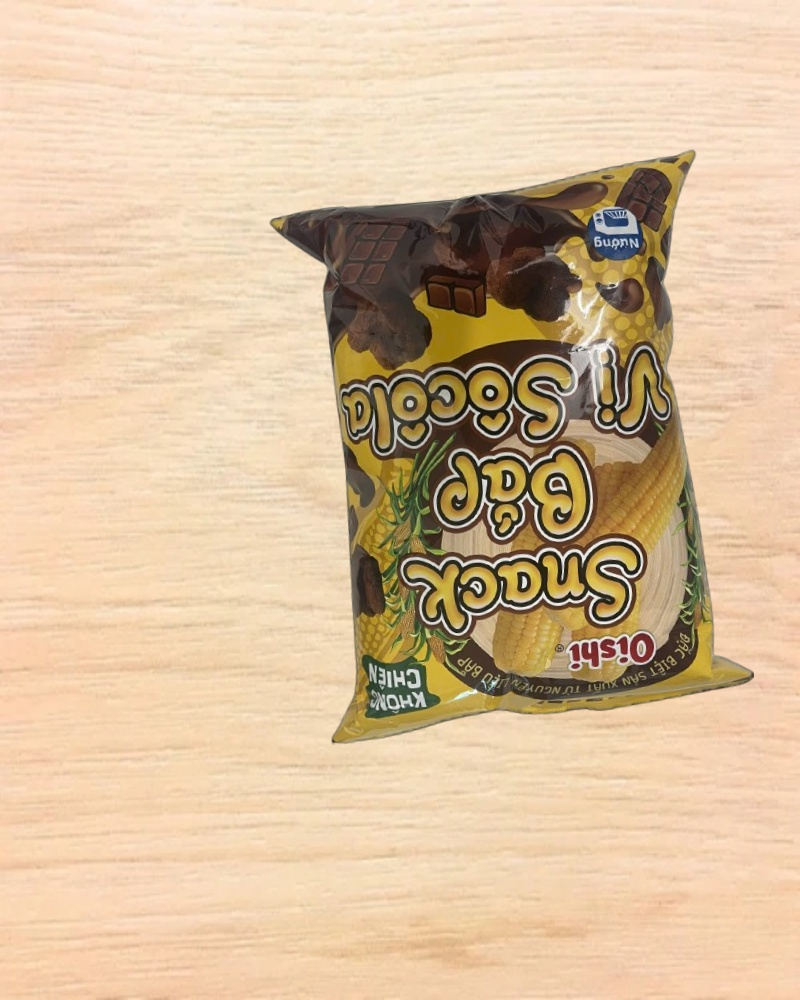Snack socola: (270, 152, 757, 744)
